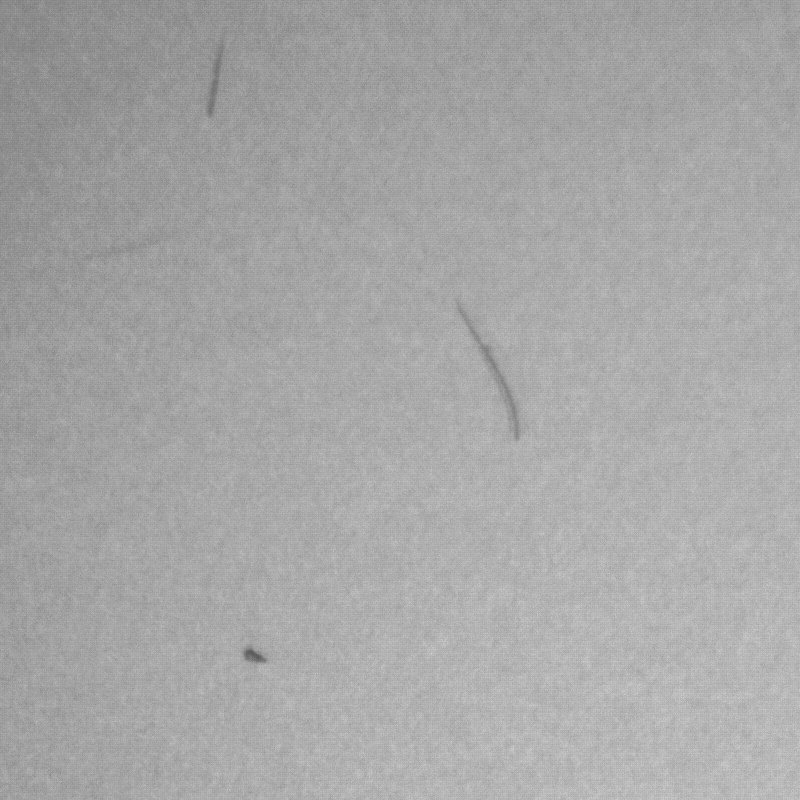defect: (444, 292, 527, 449), (199, 25, 234, 123), (237, 639, 270, 668)
